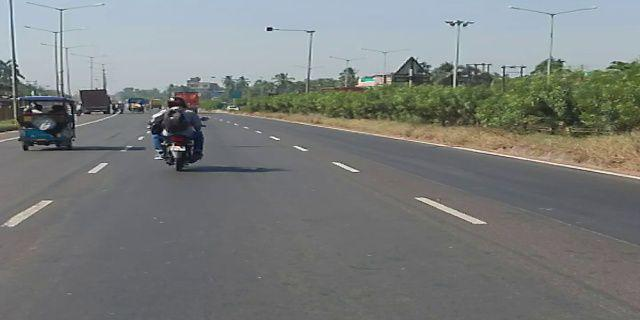Motorbike: (149, 92, 208, 175)
Rickshaw: (14, 92, 78, 155)
